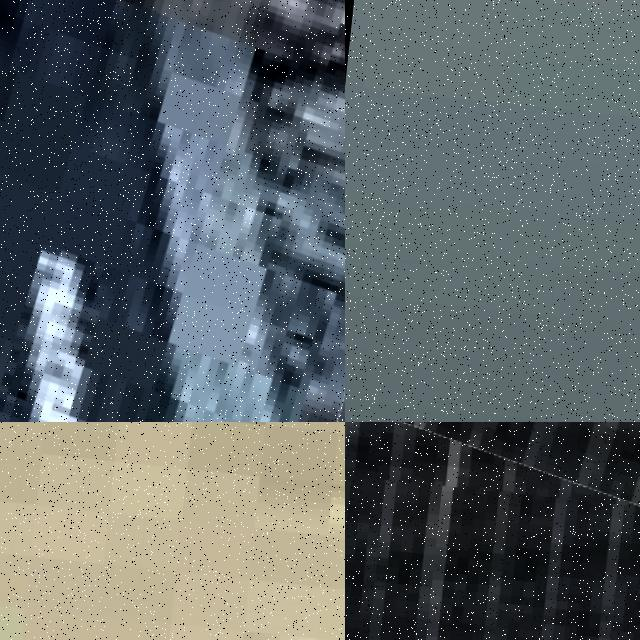0: (0, 0, 345, 422)
drone: (345, 422, 640, 535)
